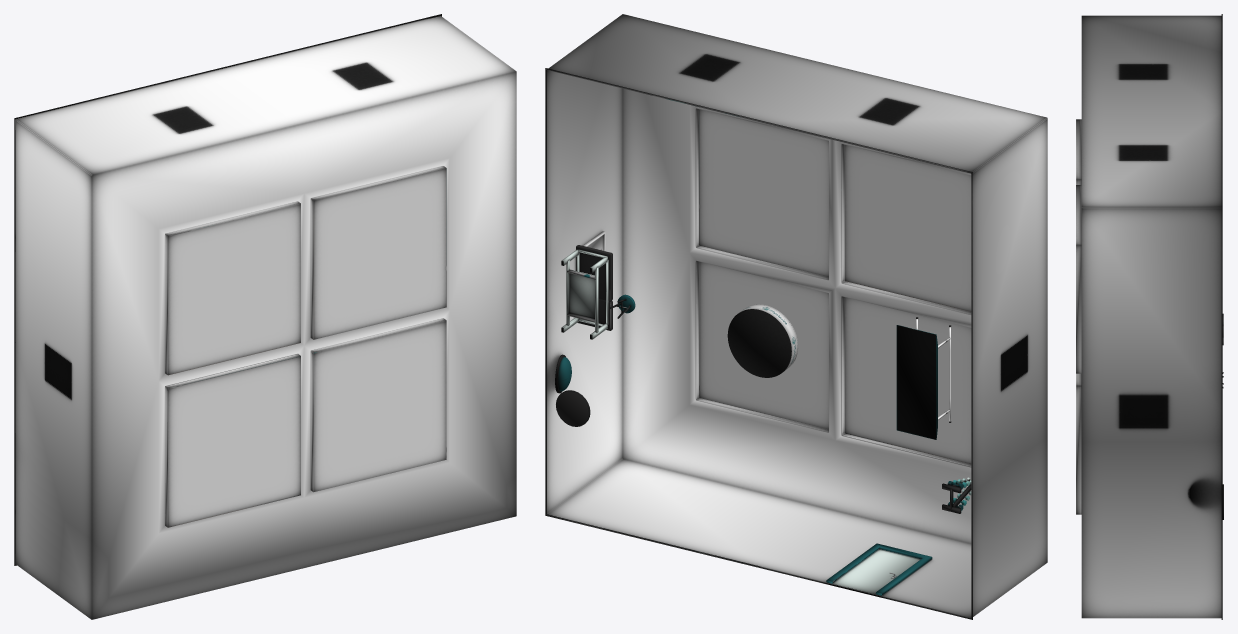
File: myosuite_scene_noFloor.obj
3 views of the same model, side by side, from view 1: azimuth 30°, elevation 25°; view 2: azimuth 150°, elevation 25°; view 3: azimuth 270°, elevation 25° (orthographic). The views are drawn at different scales.
Size of the model in its own units: 1400 by 1405 by 454.
Materials: 1 (1 with a texture image).
